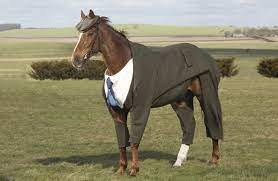Horse: (69, 6, 236, 174)
